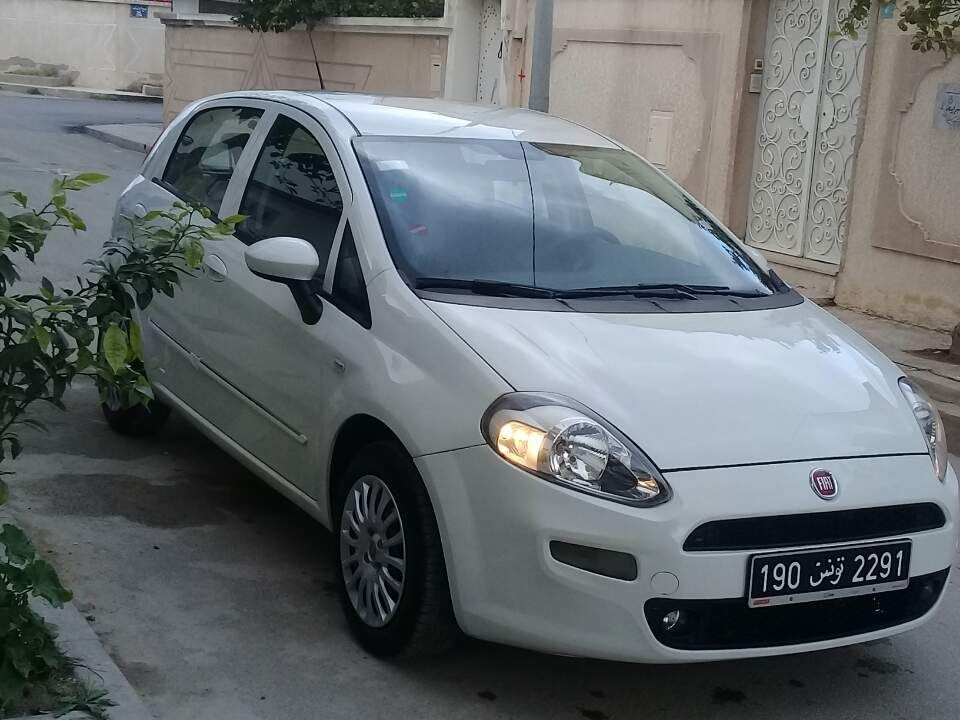LP: (749, 539, 910, 596)
